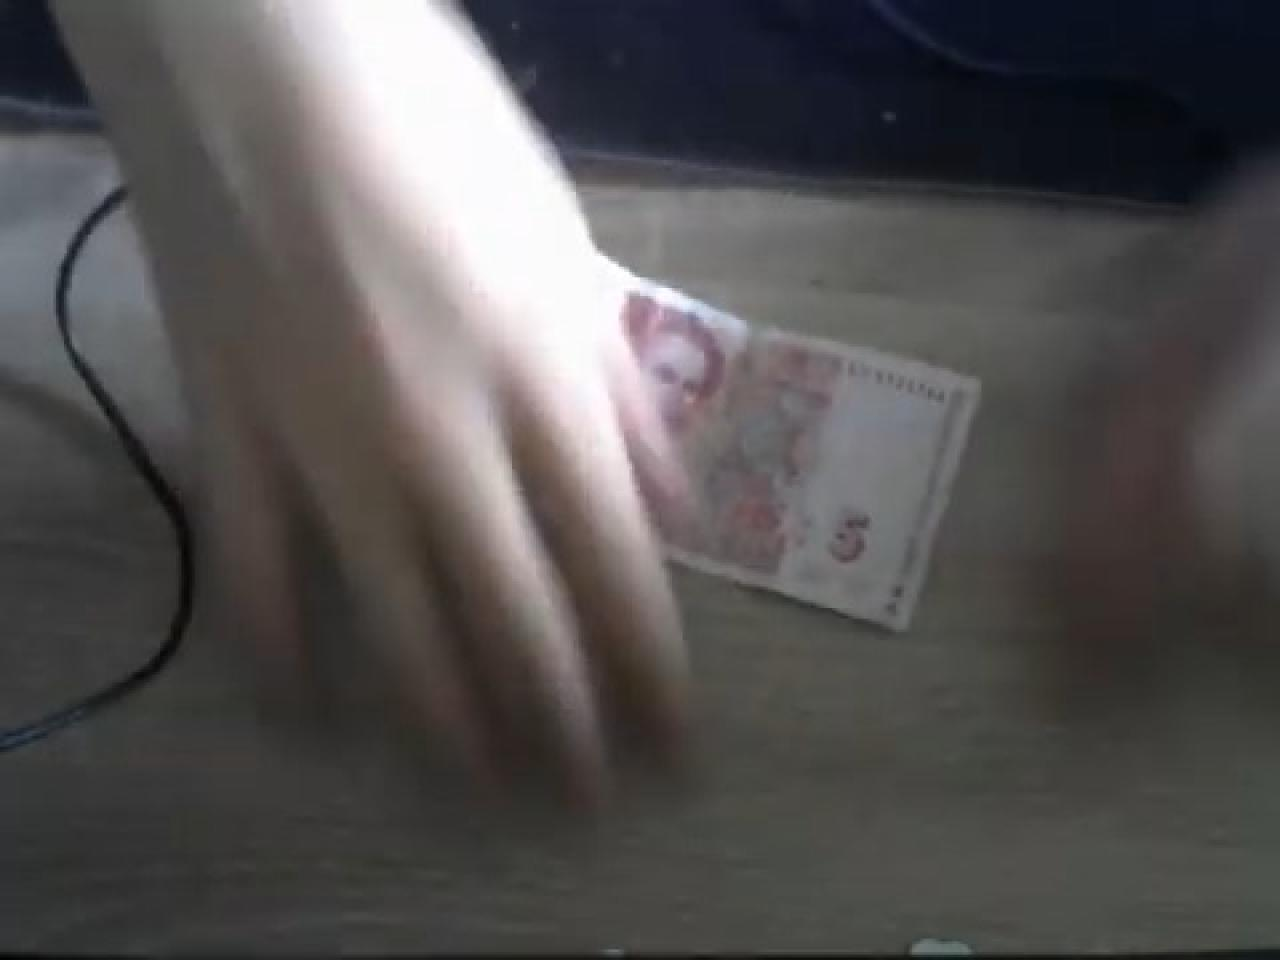5leva: (614, 282, 982, 634)
